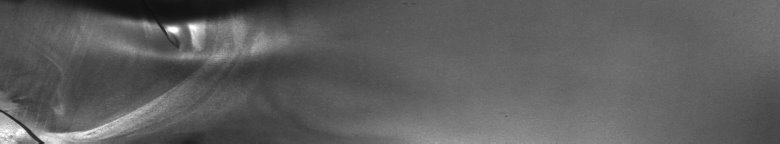ke: (4, 4, 291, 136)
